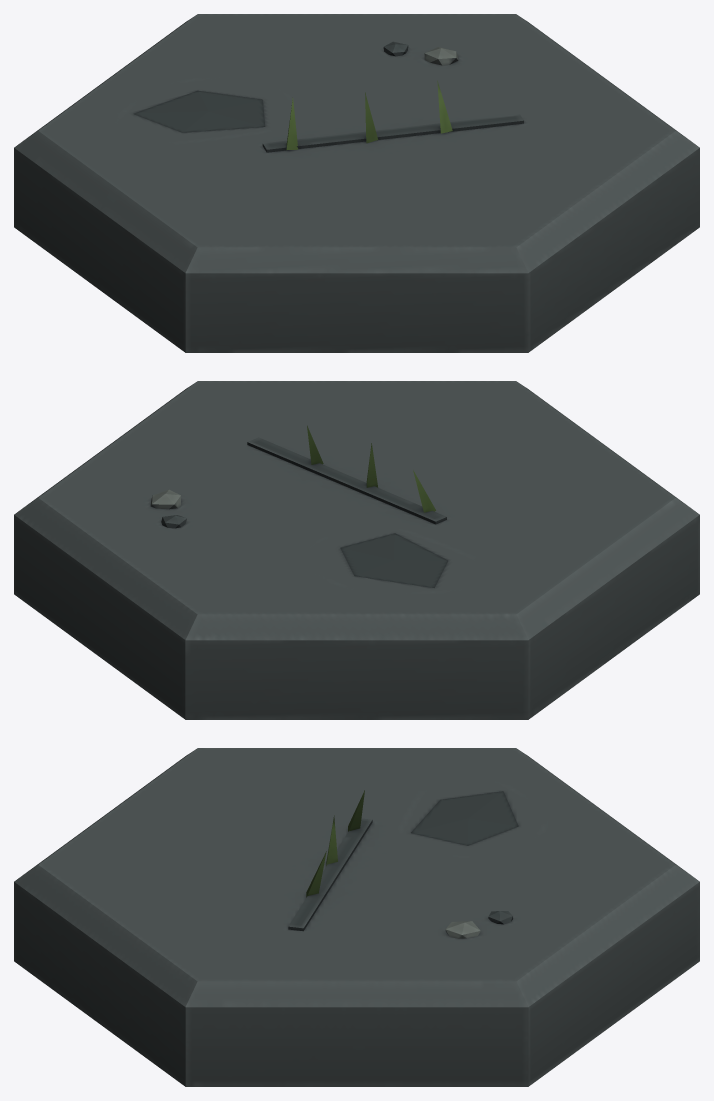
Rendered from tile_hex_stone_d.glb.
The picture shows the model from 3 angles, top to bottom: view 1: azimuth 30°, elevation 25°; view 2: azimuth 150°, elevation 25°; view 3: azimuth 270°, elevation 25°; orthographic projection.
Visible parts, largest first — view 1: tile_hex_stone_d; view 2: tile_hex_stone_d; view 3: tile_hex_stone_d.
Part boxes in pixels (box(x1,y1,x2,y2)): tile_hex_stone_d: box(14, 14, 699, 352); tile_hex_stone_d: box(14, 381, 699, 719); tile_hex_stone_d: box(14, 748, 699, 1086).
Bounding box in the file's own units: 1.12 × 0.2995 × 1.29.
Materials: 1 (1 with a texture image).
